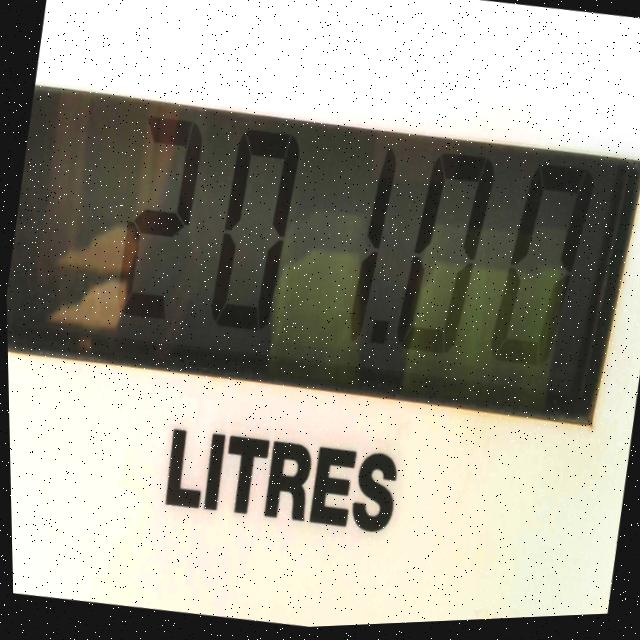.: (355, 303, 390, 374)
0: (471, 161, 613, 415), (195, 114, 329, 362), (379, 140, 503, 391)
1: (312, 129, 406, 361)
2: (102, 105, 222, 345)
